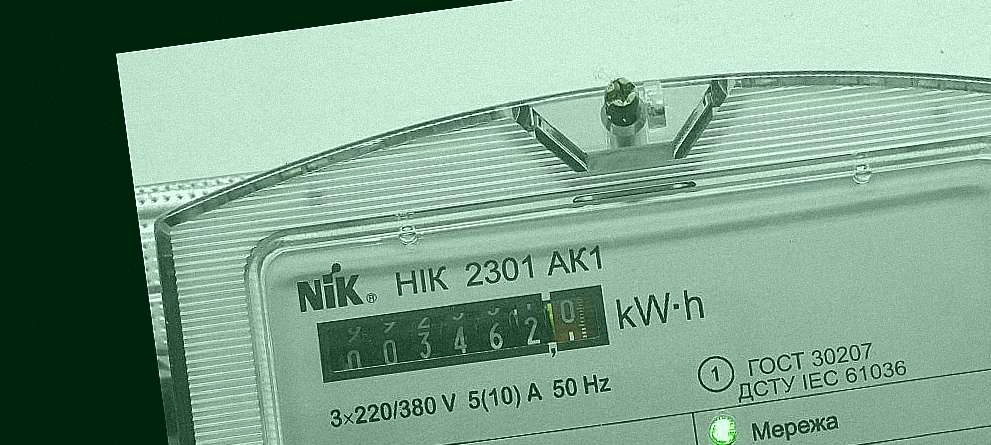0: (378, 335, 400, 366), (556, 296, 577, 326), (341, 346, 363, 371)
2: (520, 313, 543, 347)
3: (413, 328, 435, 362)
4: (449, 323, 470, 357)
6: (483, 318, 507, 354)
9: (341, 324, 364, 345)
screen: (301, 271, 622, 403)
